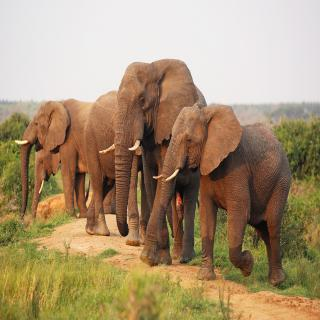Elephant: (154, 98, 296, 297), (99, 54, 197, 262), (17, 89, 95, 218)
